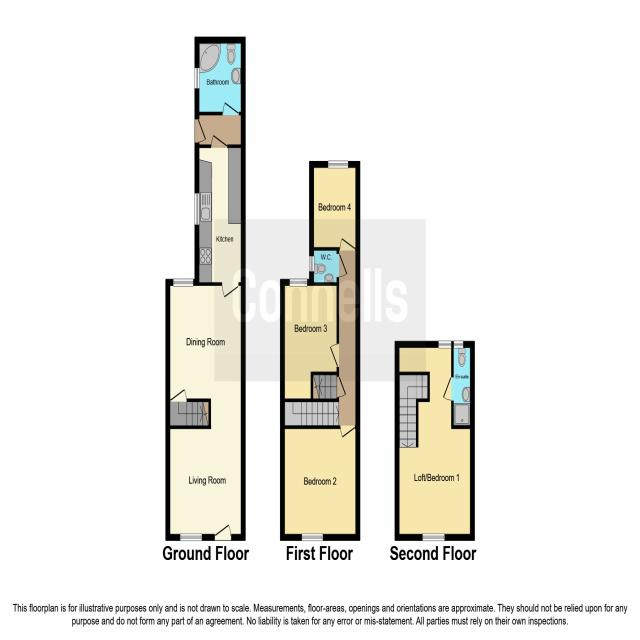DOOR: (194, 114, 207, 146), (214, 522, 232, 541), (220, 282, 239, 299), (338, 235, 357, 252), (210, 132, 230, 148), (328, 341, 339, 370), (338, 423, 356, 440), (222, 100, 239, 116)
ROOM: (394, 341, 475, 540), (280, 425, 360, 542), (280, 278, 339, 402), (309, 161, 360, 251)
WINDOW: (326, 158, 349, 170), (421, 531, 446, 542), (179, 531, 203, 542), (301, 531, 324, 542), (193, 191, 200, 227), (172, 277, 194, 288), (288, 277, 309, 288), (193, 66, 201, 90), (437, 338, 452, 350), (308, 252, 316, 273), (453, 339, 464, 349)
